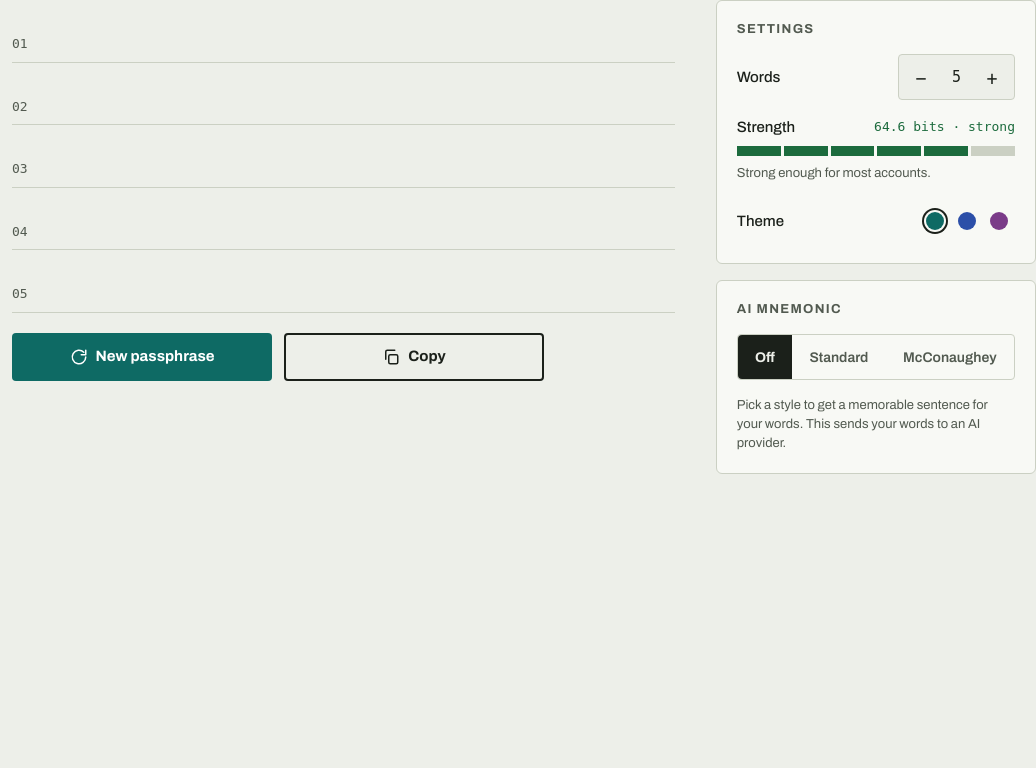
Scenario: PassphraseGenerator › shows the server's error message verbatim
Click the 4th radio button labelled "Standard" at point(839, 357), box [809, 350, 868, 365]
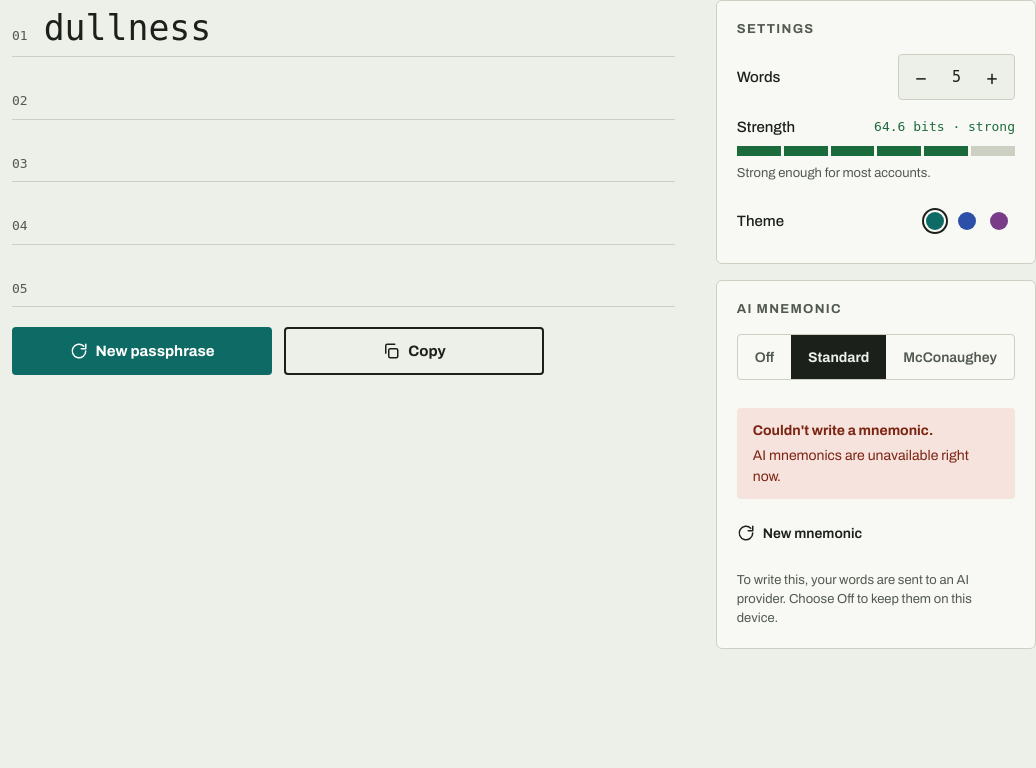
Check: the message shows "AI mnemonics are unavailable right now.", box [753, 448, 969, 484]
